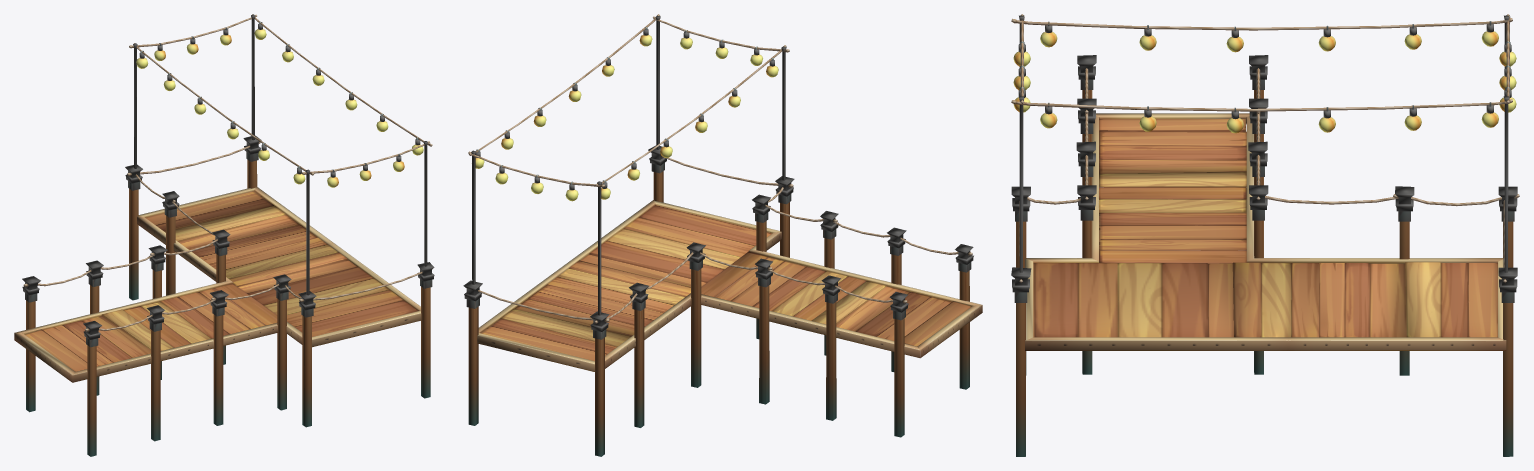
The model's file is CBS_obj_Marina.FBX.
3 views of the same model, side by side, from view 1: azimuth 30°, elevation 25°; view 2: azimuth 150°, elevation 25°; view 3: azimuth 270°, elevation 25° (orthographic). The views are drawn at different scales.
Parts seen in each view (by area): view 1: CBS_obj_Marina; view 2: CBS_obj_Marina; view 3: CBS_obj_Marina.
Boxes of the visible parts, box(x1,y1,x2,y2) form: CBS_obj_Marina: box(14, 14, 434, 456); CBS_obj_Marina: box(463, 14, 982, 456); CBS_obj_Marina: box(1011, 14, 1519, 456).
Bounding box in the file's own units: 664 × 481 × 620.
